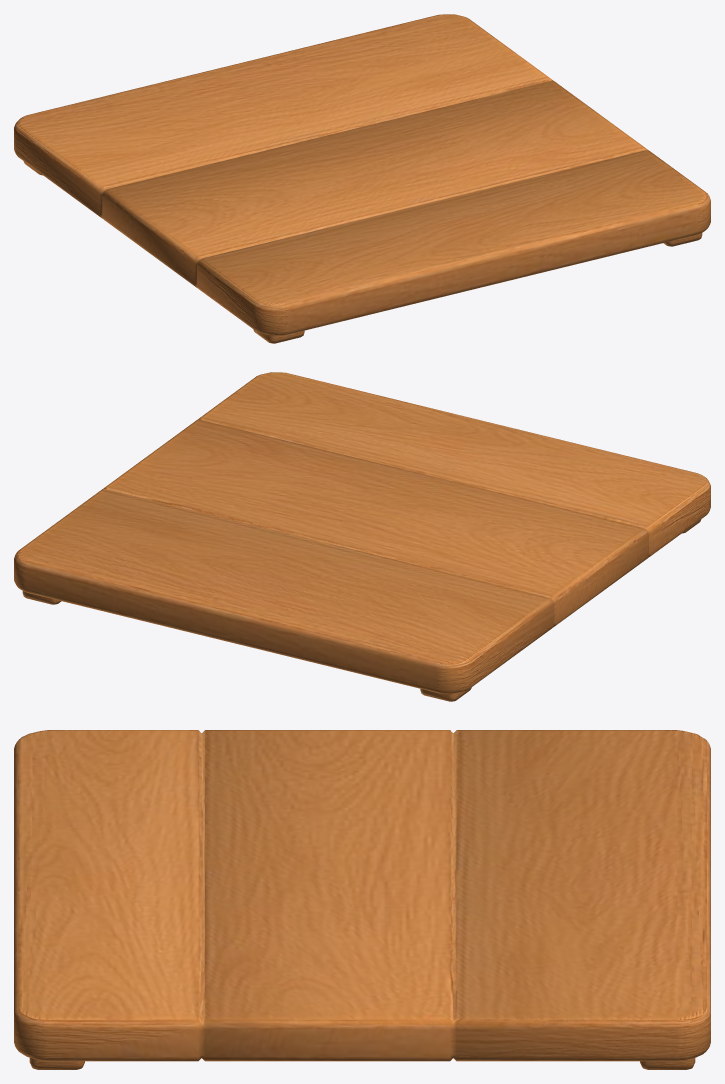
The model's file is stage.glb.
3 renders of one model, top to bottom at view 1: azimuth 30°, elevation 25°; view 2: azimuth 150°, elevation 25°; view 3: azimuth 270°, elevation 25°, orthographic. The views are drawn at different scales.
Visible parts, largest first — view 1: tripo_node_fc6d8f28-bd5e-4b22-bfe5-df5d2fee3550; view 2: tripo_node_fc6d8f28-bd5e-4b22-bfe5-df5d2fee3550; view 3: tripo_node_fc6d8f28-bd5e-4b22-bfe5-df5d2fee3550.
Part boxes in pixels (x1,y1,x2,y2): tripo_node_fc6d8f28-bd5e-4b22-bfe5-df5d2fee3550: (14,14,710,343); tripo_node_fc6d8f28-bd5e-4b22-bfe5-df5d2fee3550: (14,372,710,701); tripo_node_fc6d8f28-bd5e-4b22-bfe5-df5d2fee3550: (14,730,710,1069).
Bounding box in the file's own units: 0.9995 × 0.0913 × 0.9995.
Materials: 1 (1 with a texture image).
